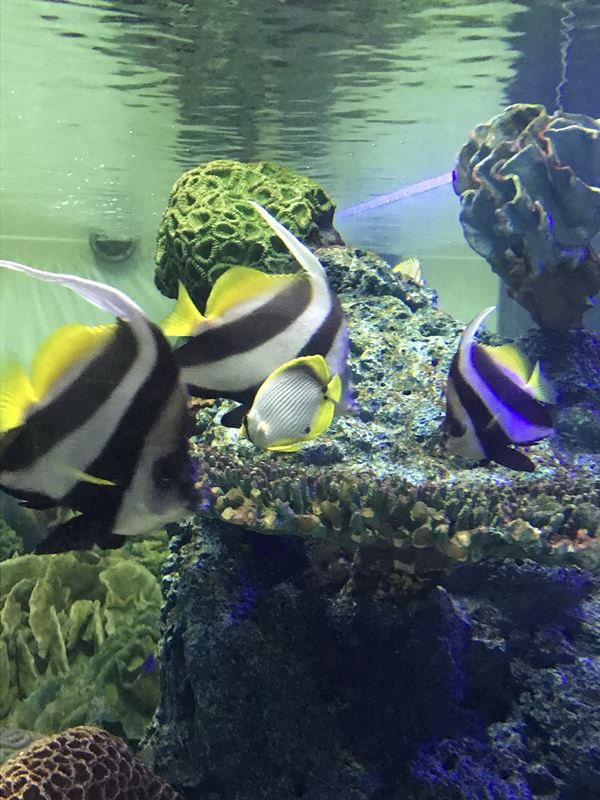Black-backed butterflyfish: (228, 348, 364, 462)
